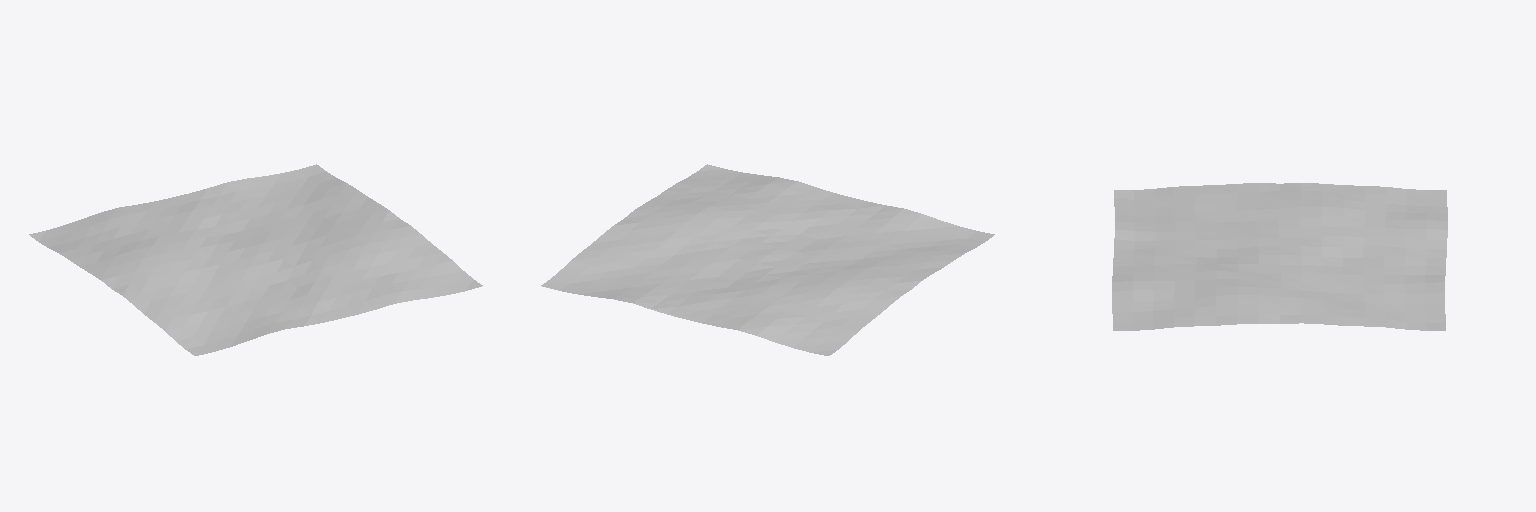
Rendered from water_000196.obj.
3 renders of one model, left to right at view 1: azimuth 30°, elevation 25°; view 2: azimuth 150°, elevation 25°; view 3: azimuth 270°, elevation 25°, orthographic.
Parts seen in each view (by area): view 1: Plan.003_Plan.001; view 2: Plan.003_Plan.001; view 3: Plan.003_Plan.001.
Part boxes in pixels (x1,y1,x2,y2): Plan.003_Plan.001: (29, 164, 482, 355); Plan.003_Plan.001: (541, 164, 994, 355); Plan.003_Plan.001: (1112, 183, 1447, 330).
Bounding box in the file's own units: 60382 × 2064 × 60914.